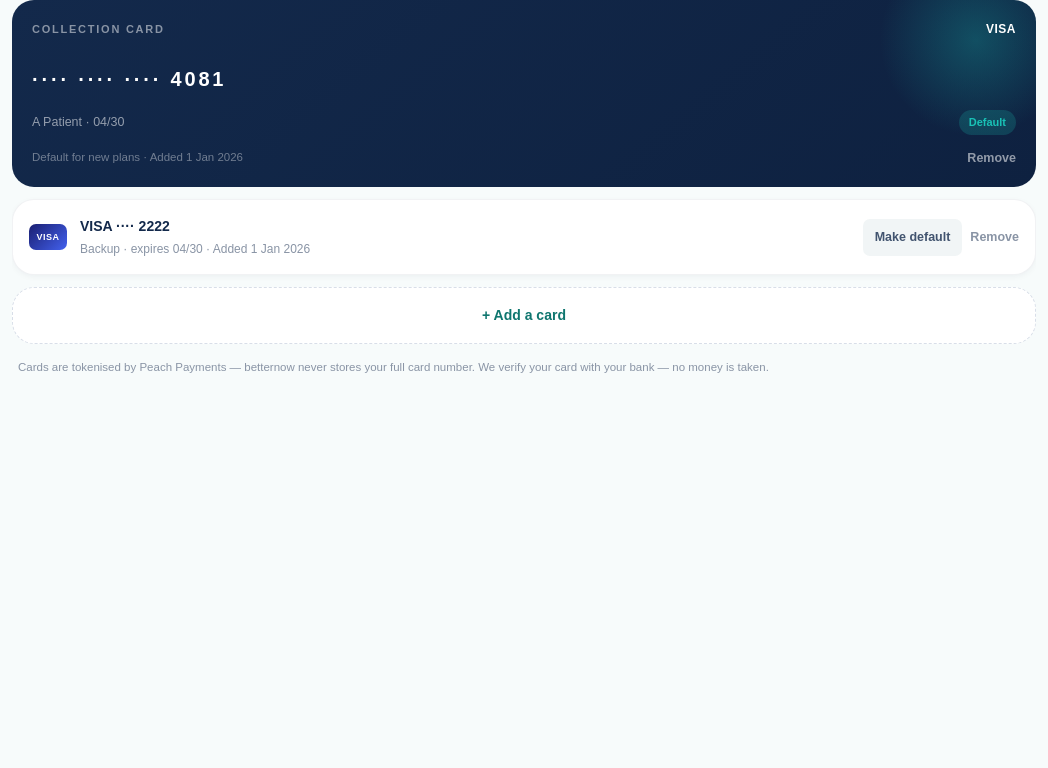
RULE 2 — delete guard › archiving the default surfaces the reassigned default in the notice
The image size is (1048, 768).
Click the button with test id "remove-card-a" at (992, 158), box [967,148,1016,167]
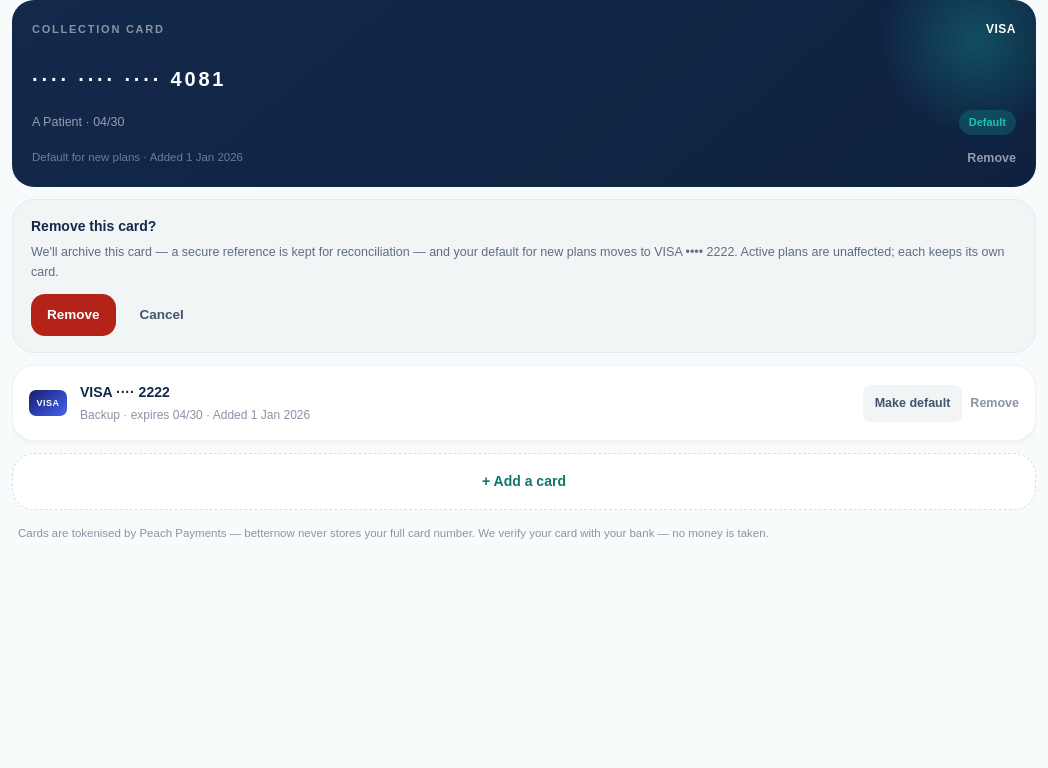
Click the button with test id "confirm-remove" at (73, 315), box [31,294,116,336]
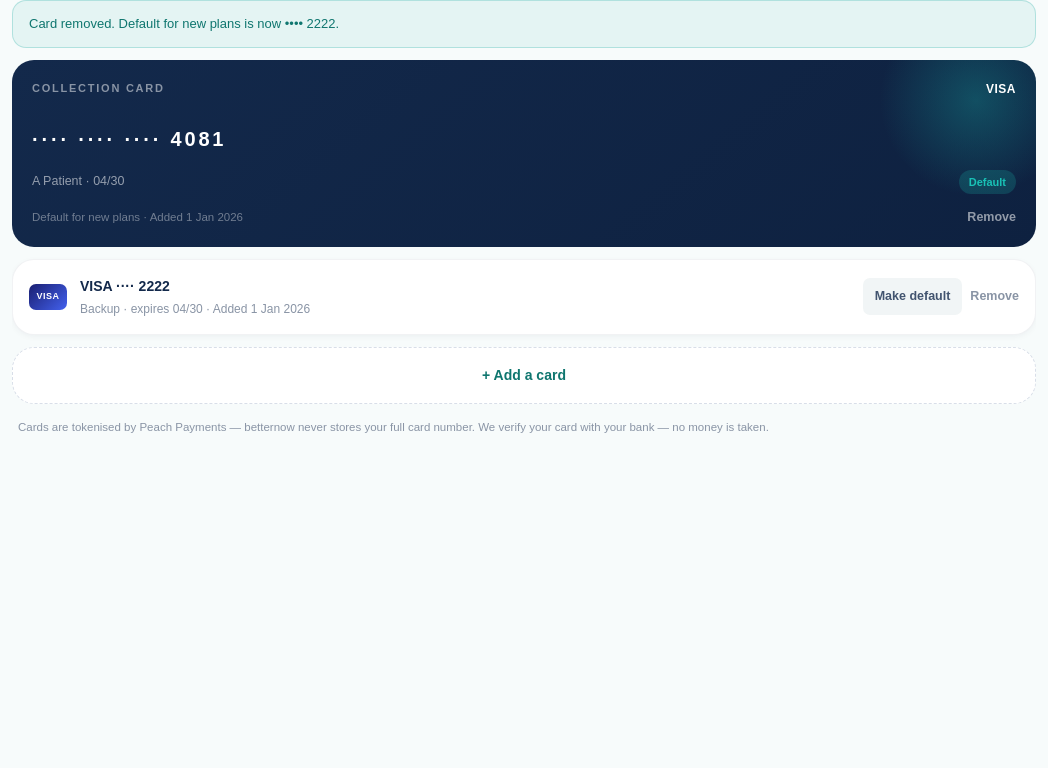
Check: the text "Card removed. Default for new plans is now •••• 2222." is shown, box [12,0,1036,48]
